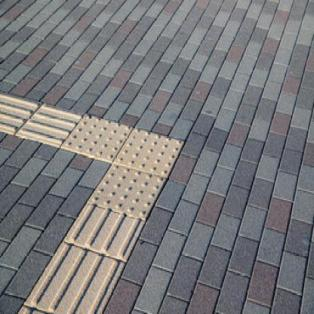Podoctatil: (0, 65, 186, 314)
